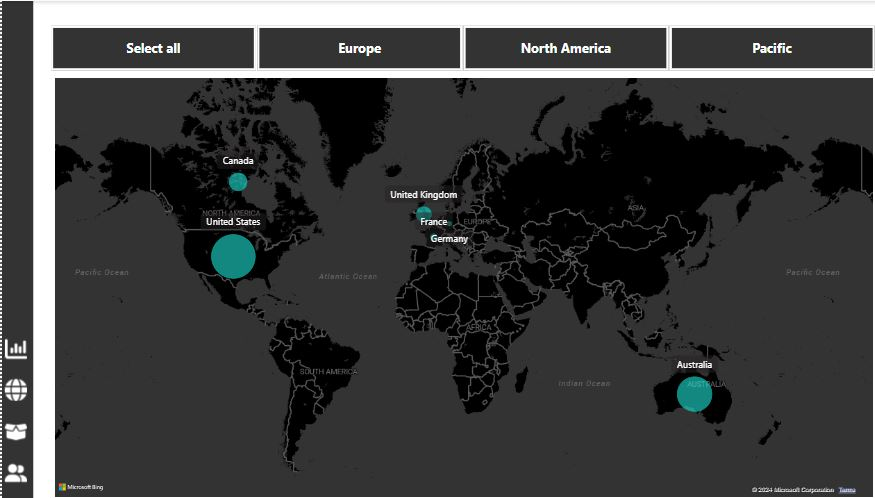

What the dashboard file says about the page in this screenshot:
{"tool":"powerbi","page":{"name":"Map","canvas":[1280,720],"ordinal":1},"visuals":[{"type":"map","fields":{"Category":["Territory Lookup.Country"],"Size":["Measure Table.Total Orders"]},"box":[72,106.6,1186.6,613.4],"z":0},{"type":"slicer","fields":{"Values":["Territory Lookup.Continent"]},"box":[44.6,28.8,1235.5,77.8],"z":1000},{"type":"shape","title":"Left Nav Background","box":[0,0,45,720],"z":2000},{"type":"actionButton","box":[0,481,44.6,40.3],"z":3000},{"type":"actionButton","box":[0,600,44.6,40.3],"z":4000},{"type":"actionButton","box":[0,659.5,44.6,40.3],"z":5000},{"type":"actionButton","box":[0,540.5,44.6,40.3],"z":6000}]}

Visuals, with their boxes on the page's 1280x720 design canvas (x1, y1, x2, y2). These are canvas units, not pixel positions in the 875x498 screenshot, which may show the page scaled, cropped or inside an application window:
map - Territory Lookup.Country x Measure Table.Total Orders: <region>72, 107, 1259, 720</region>
slicer - Territory Lookup.Continent: <region>45, 29, 1280, 107</region>
"Left Nav Background" shape: <region>0, 0, 45, 720</region>
actionButton: <region>0, 481, 45, 521</region>
actionButton: <region>0, 600, 45, 640</region>
actionButton: <region>0, 660, 45, 700</region>
actionButton: <region>0, 540, 45, 581</region>
